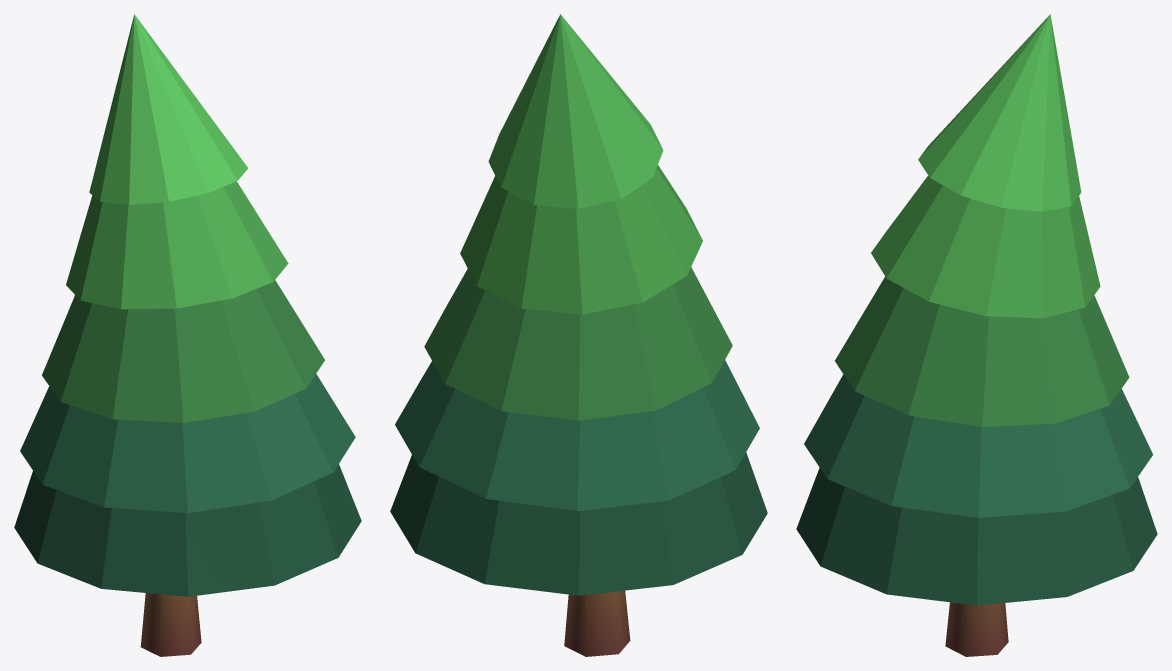
File: pine3.fbx
The picture shows the model from 3 angles, left to right: view 1: azimuth 30°, elevation 25°; view 2: azimuth 150°, elevation 25°; view 3: azimuth 270°, elevation 25°; orthographic projection. The views are drawn at different scales.
Parts seen in each view (by area): view 1: pine3.005; view 2: pine3.005; view 3: pine3.005.
Part boxes in pixels (box(x1,y1,x2,y2)): pine3.005: box(14, 14, 361, 656); pine3.005: box(390, 14, 767, 656); pine3.005: box(796, 14, 1157, 656).
Size of the model in its own units: 433 by 832 by 433.
